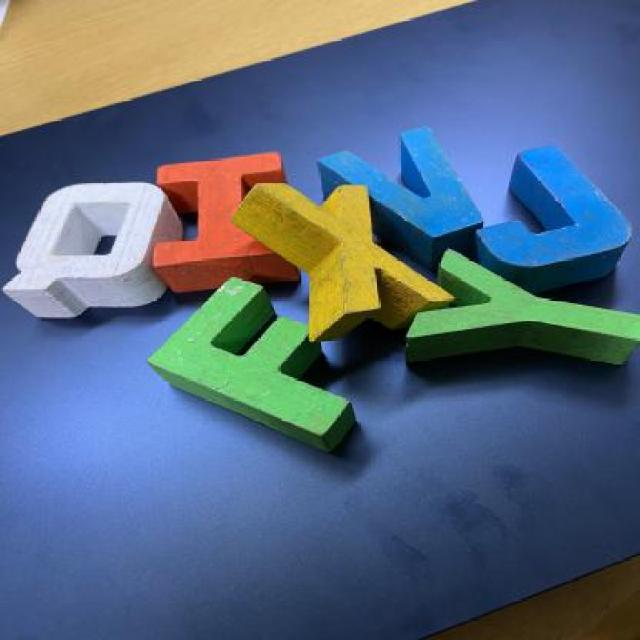F: (145, 265, 398, 464)
I: (152, 149, 297, 288)
J: (467, 142, 631, 290)
V: (317, 126, 495, 268)
X: (232, 183, 460, 342)
Y: (385, 247, 638, 376)
